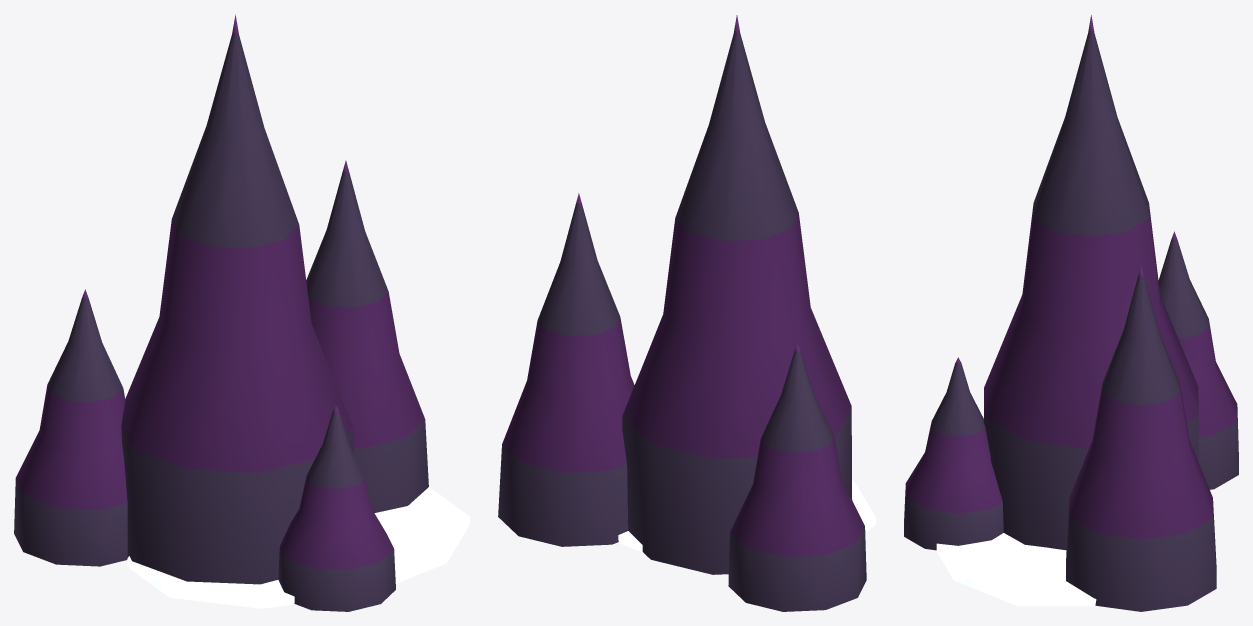
The model's file is W4_Stalagmite_B.fbx.
3 views of the same model, side by side, from view 1: azimuth 30°, elevation 25°; view 2: azimuth 150°, elevation 25°; view 3: azimuth 270°, elevation 25° (orthographic). The views are drawn at different scales.
Visible parts, largest first — view 1: W4_Stalagmite_B; view 2: W4_Stalagmite_B; view 3: W4_Stalagmite_B.
Part boxes in pixels (x1,y1,x2,y2): W4_Stalagmite_B: [14, 14, 469, 611]; W4_Stalagmite_B: [498, 15, 875, 611]; W4_Stalagmite_B: [904, 15, 1238, 611].
Size of the model in its own units: 2.49 by 3.36 by 2.02.
